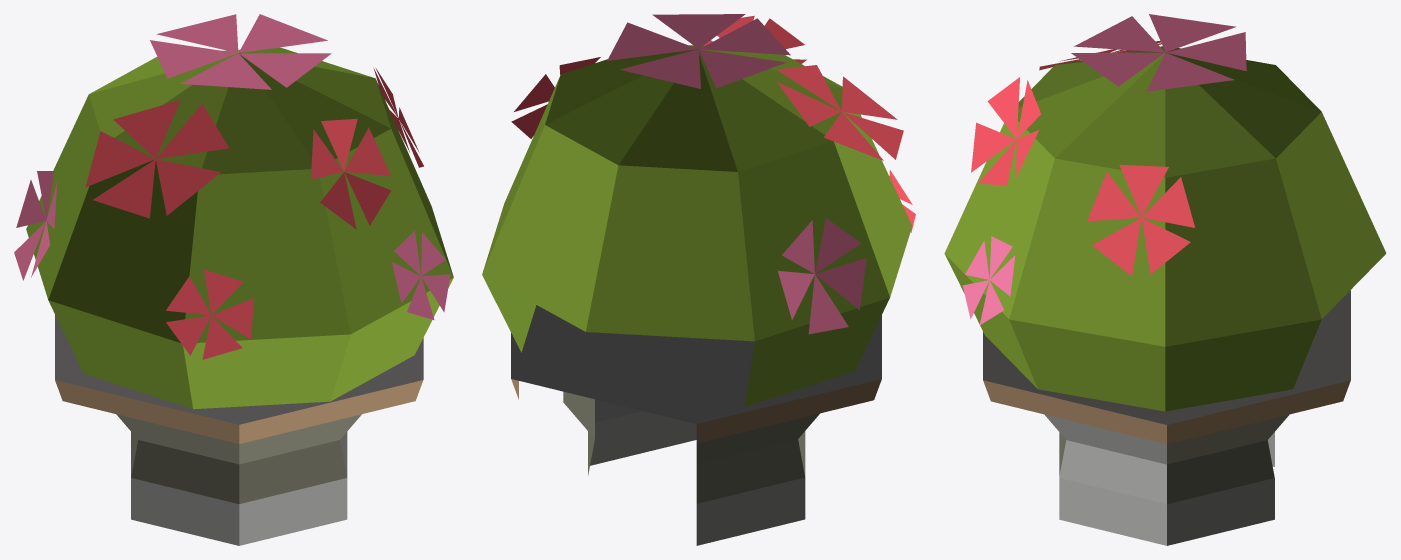
The model's file is forest01.fbx.
3 renders of one model, left to right at view 1: azimuth 30°, elevation 25°; view 2: azimuth 150°, elevation 25°; view 3: azimuth 270°, elevation 25°, orthographic.
Visible parts, largest first — view 1: forest01; view 2: forest01; view 3: forest01.
Part boxes in pixels (x1,y1,x2,y2): forest01: (14, 14, 453, 545); forest01: (482, 14, 915, 545); forest01: (944, 14, 1386, 545).
Bounding box in the file's own units: 0.8328 × 0.9152 × 0.8328.
Materials: 1 (1 with a texture image).
